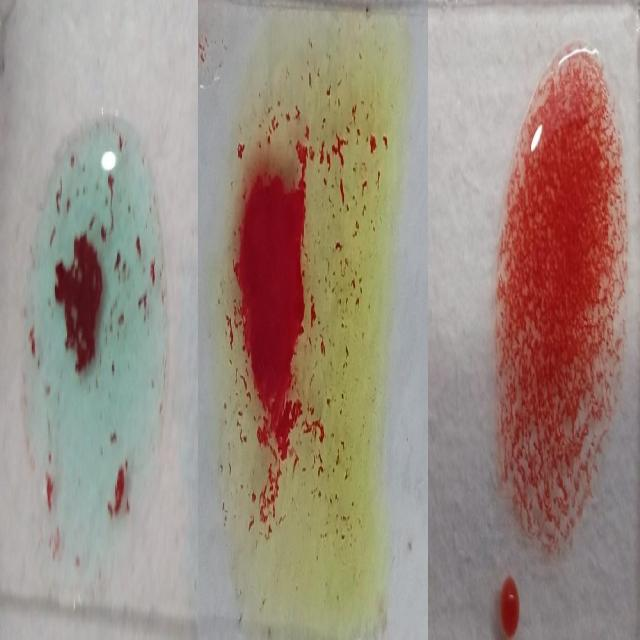A: (25, 104, 172, 532)
B: (215, 39, 394, 603)
D: (490, 41, 626, 557)
